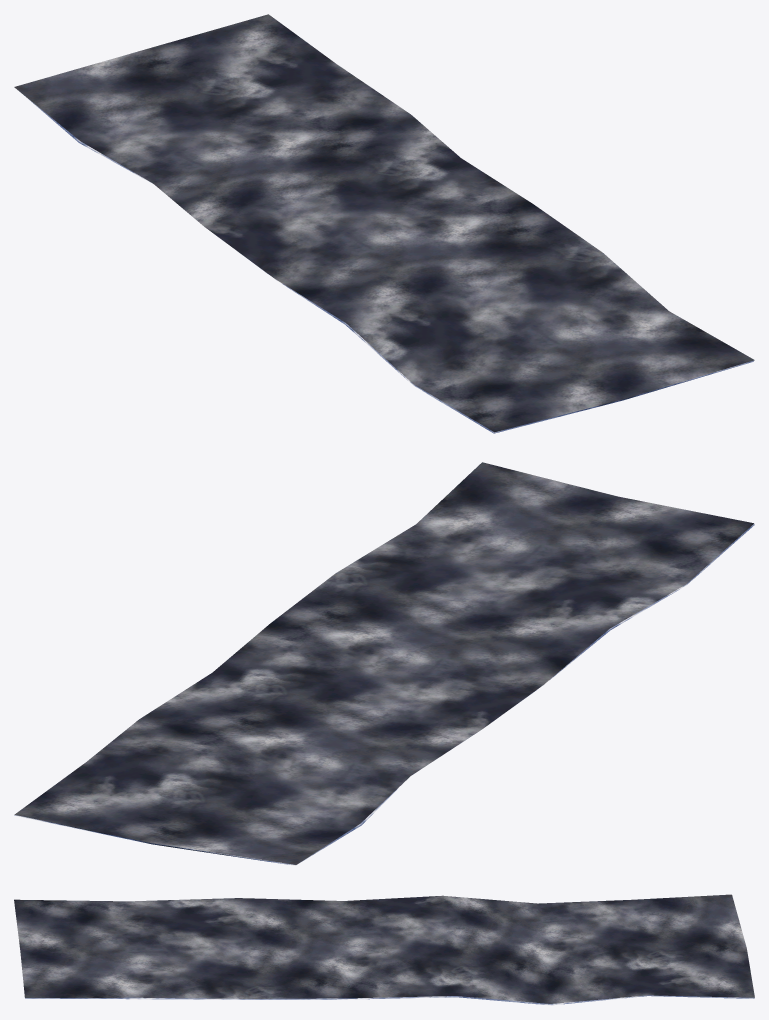
File: LONE_MOUNTAIN_WATERFALLS_MAINWATER_TREASURY02.fbx
3 renders of one model, top to bottom at view 1: azimuth 30°, elevation 25°; view 2: azimuth 150°, elevation 25°; view 3: azimuth 270°, elevation 25°, orthographic. The views are drawn at different scales.
Parts seen in each view (by area): view 1: LONE_MOUNTAIN_WATERFALLS_MAINWATER_TREASURY02; view 2: LONE_MOUNTAIN_WATERFALLS_MAINWATER_TREASURY02; view 3: LONE_MOUNTAIN_WATERFALLS_MAINWATER_TREASURY02.
Part boxes in pixels (left/top/right/bottom): LONE_MOUNTAIN_WATERFALLS_MAINWATER_TREASURY02: left=14, top=14, right=754, bottom=433; LONE_MOUNTAIN_WATERFALLS_MAINWATER_TREASURY02: left=14, top=462, right=754, bottom=865; LONE_MOUNTAIN_WATERFALLS_MAINWATER_TREASURY02: left=14, top=894, right=754, bottom=1005.
Bounding box in the file's own units: 52988 × 1712 × 159548.
Materials: 2 (2 with a texture image).
